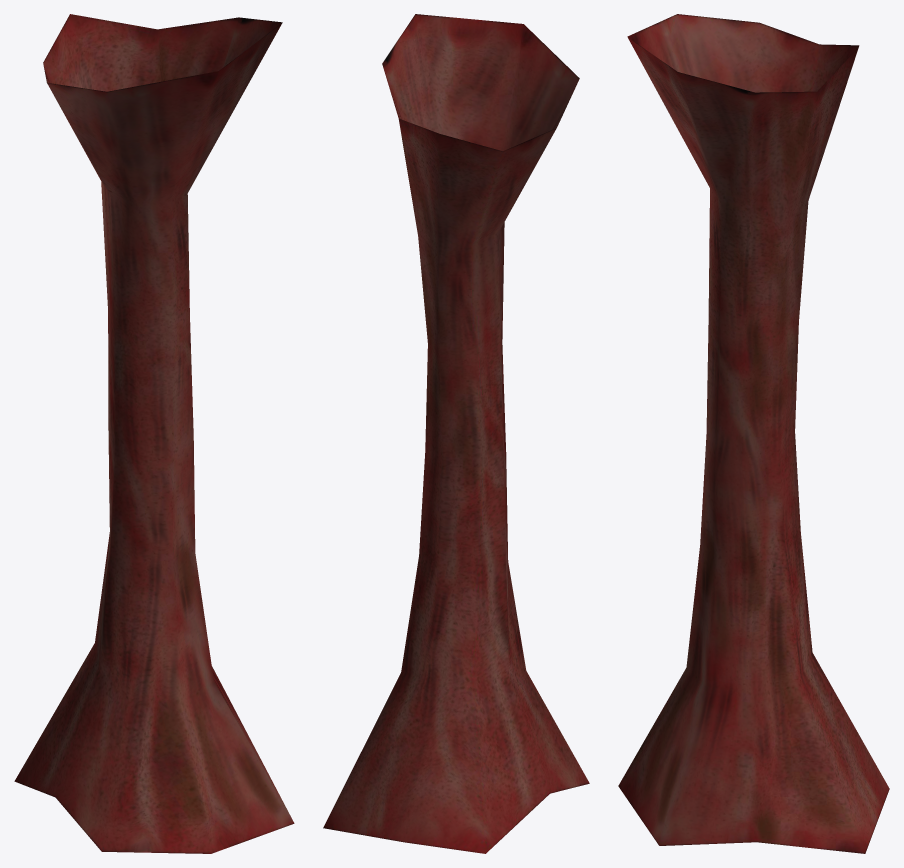
The model's file is FBX_goo_strip.fbx.
The picture shows the model from 3 angles, left to right: view 1: azimuth 30°, elevation 25°; view 2: azimuth 150°, elevation 25°; view 3: azimuth 270°, elevation 25°; orthographic projection. The views are drawn at different scales.
Parts seen in each view (by area): view 1: goo_strip_geo; view 2: goo_strip_geo; view 3: goo_strip_geo.
Boxes of the visible parts, <box> form: goo_strip_geo: <box>14,14,294,853</box>; goo_strip_geo: <box>323,14,589,853</box>; goo_strip_geo: <box>618,14,889,853</box>.
Size of the model in its own units: 1.1 by 1.26 by 3.99.
